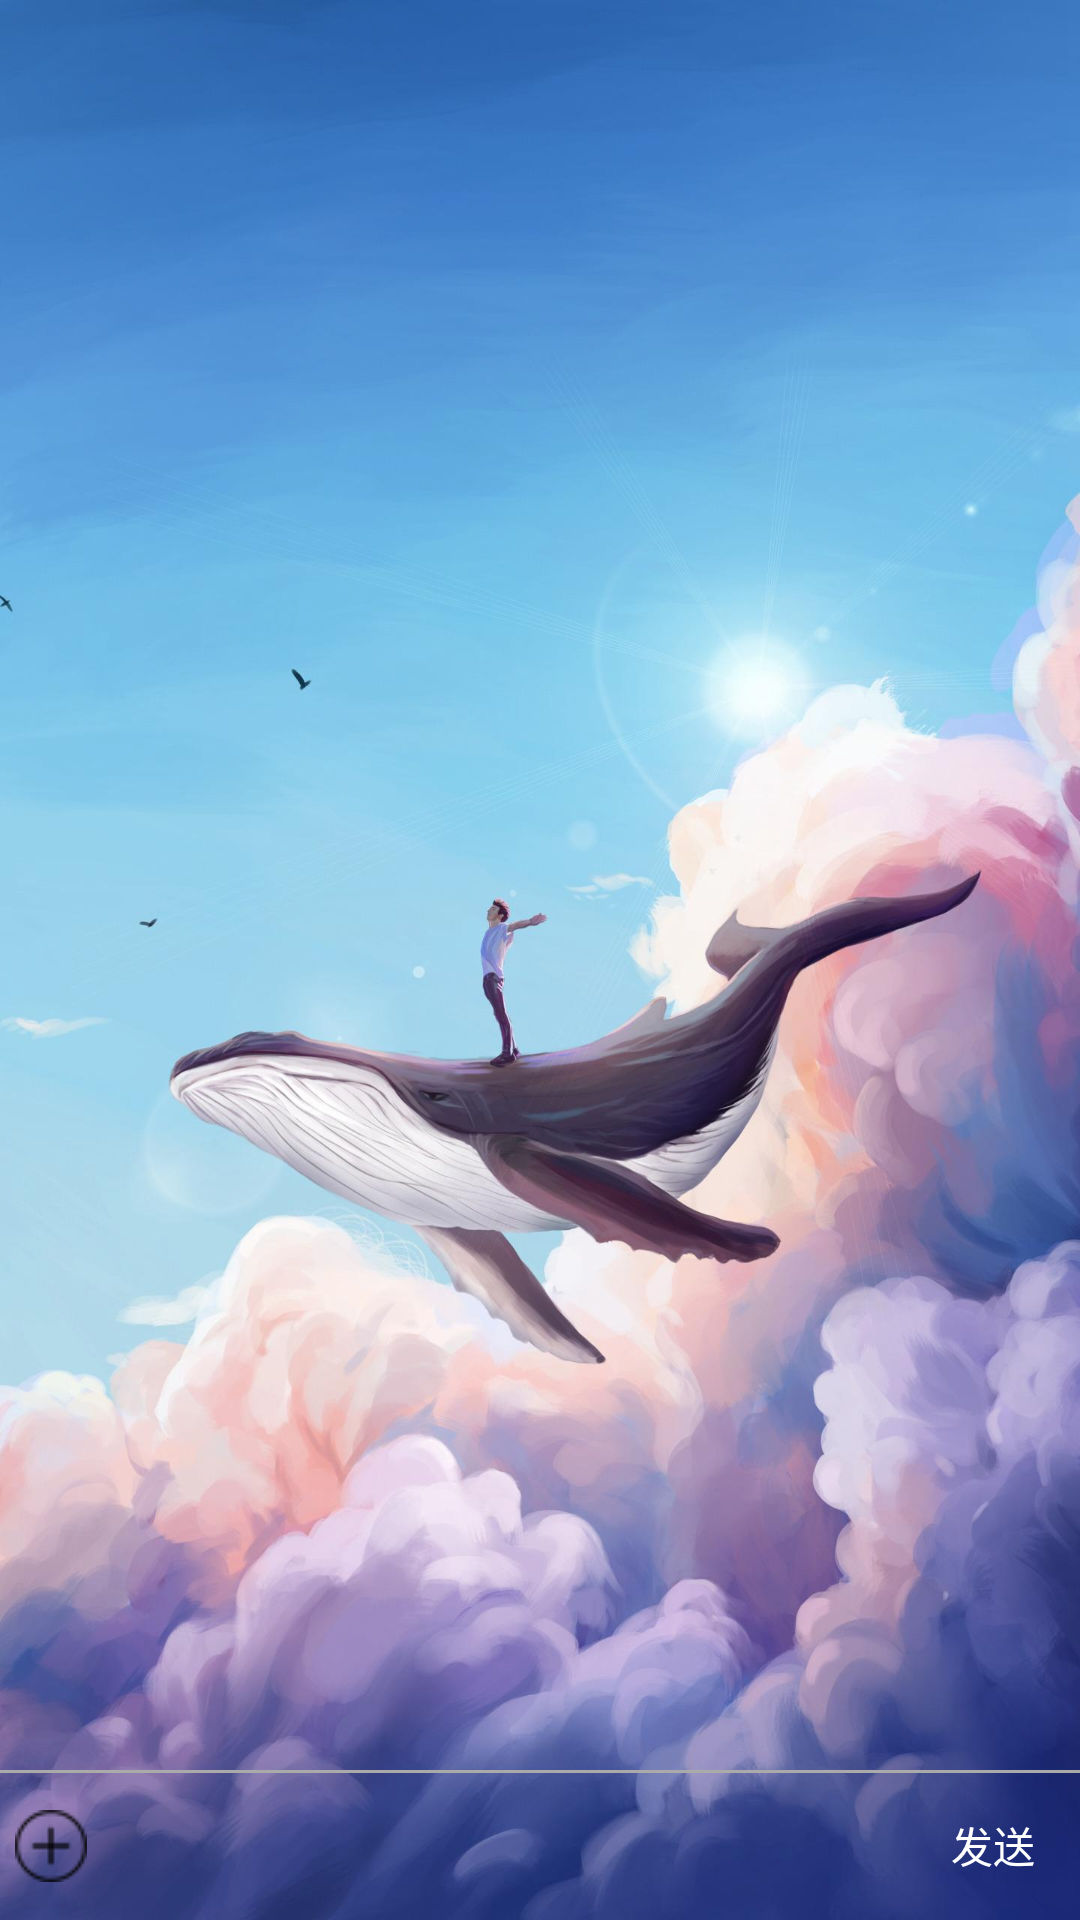

Icons on this 1080x1920 Android screen, each with the point to tap as point (x, y):
add: point (51, 1846)
